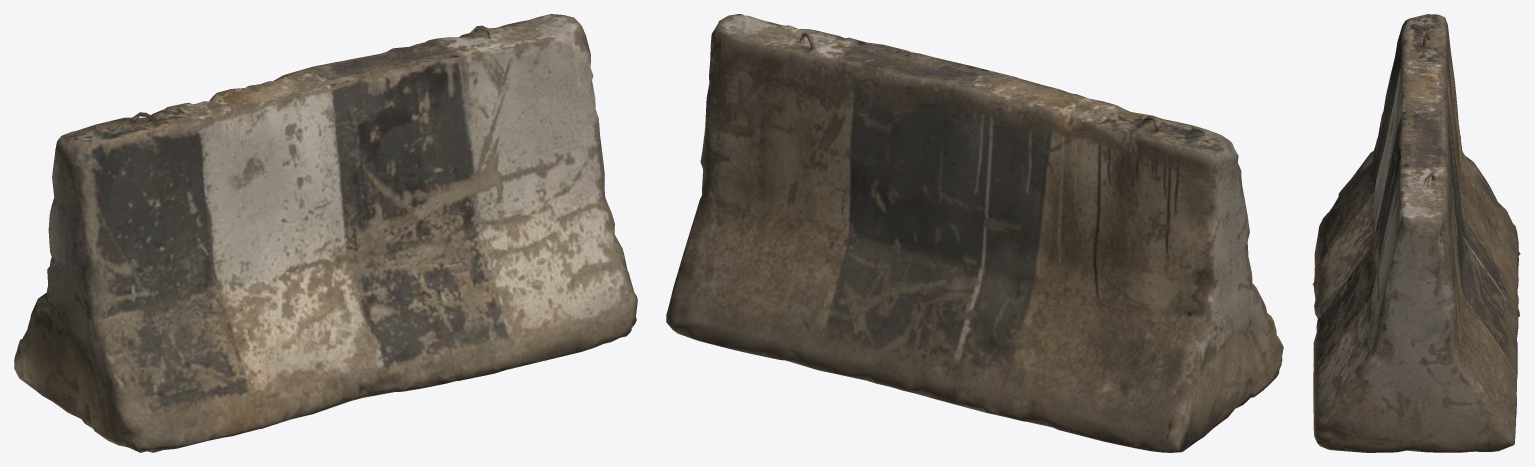
The model's file is obj-barrera.146e8b.glb.
3 views of the same model, side by side, from view 1: azimuth 30°, elevation 25°; view 2: azimuth 150°, elevation 25°; view 3: azimuth 270°, elevation 25° (orthographic). The views are drawn at different scales.
Visible parts, largest first — view 1: concrete_road_barrier; view 2: concrete_road_barrier; view 3: concrete_road_barrier.
Part boxes in pixels (left/top/right/bottom): concrete_road_barrier: left=14, top=14, right=637, bottom=452; concrete_road_barrier: left=666, top=14, right=1283, bottom=452; concrete_road_barrier: left=1312, top=14, right=1520, bottom=452.
Bounding box in the file's own units: 1.54 × 0.8304 × 0.6387.
1 material, 1 textured.
